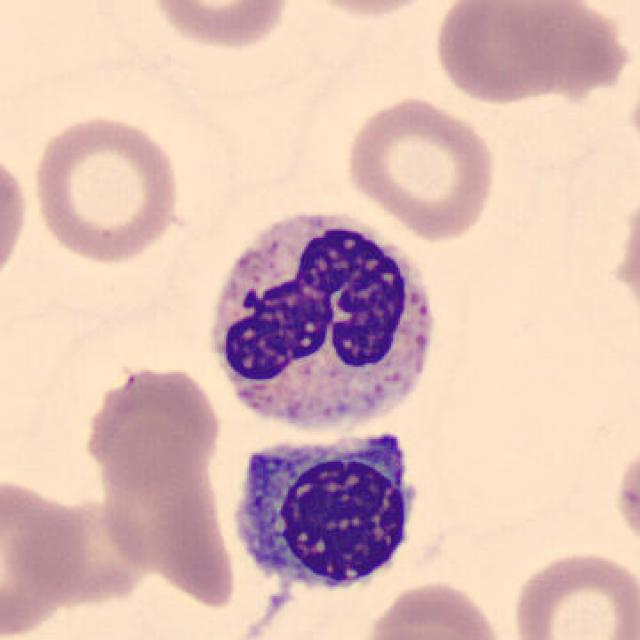Lymphocyte: (224, 419, 434, 597)
Neutrophil: (197, 196, 448, 446)
RBC: (428, 0, 640, 145), (27, 110, 185, 266), (340, 91, 500, 242), (92, 426, 223, 580), (78, 360, 224, 490), (0, 470, 90, 640), (430, 0, 566, 106), (5, 569, 206, 640), (506, 546, 638, 640), (359, 576, 510, 640), (142, 0, 295, 53), (0, 143, 30, 294), (610, 434, 640, 562), (286, 0, 454, 21), (356, 622, 500, 640)
